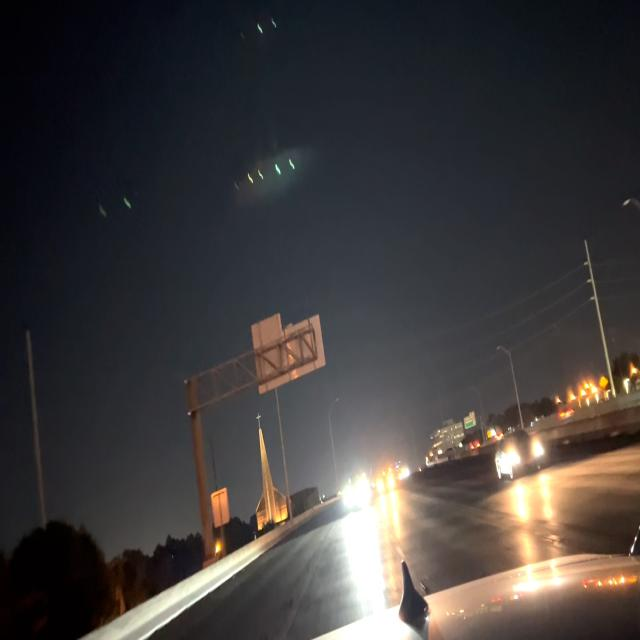back-of-sign: (253, 309, 327, 393), (213, 488, 231, 529)
